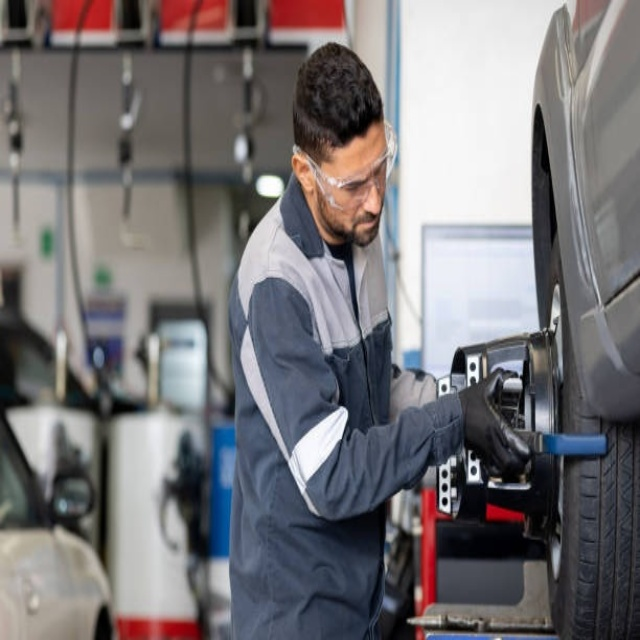Gafas: (296, 126, 397, 210)
Guantes: (458, 372, 533, 481)
Sin_mascara: (350, 209, 383, 249)
